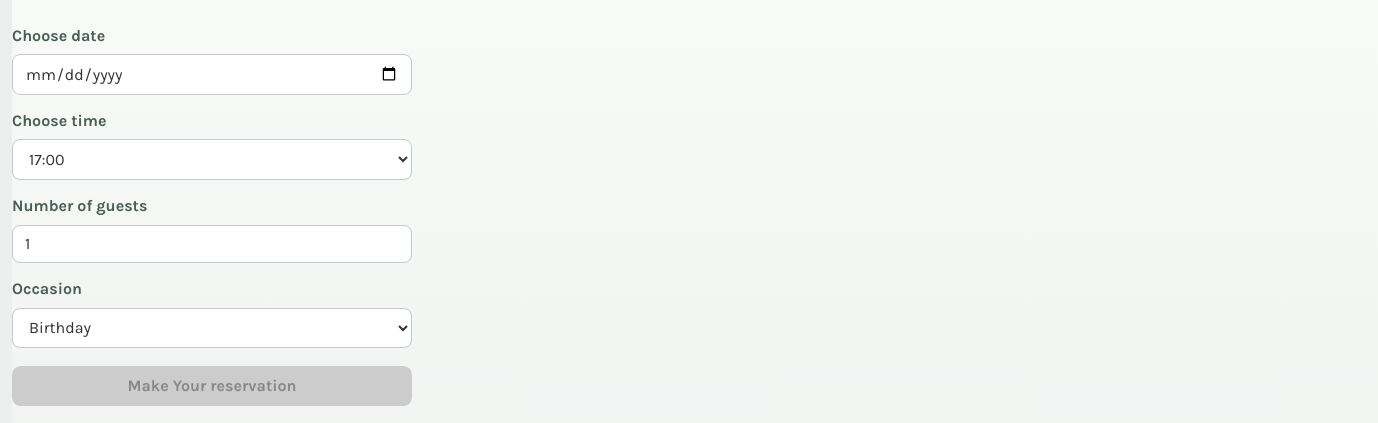
submit button is enabled when date is valid
This screenshot has width=1378, height=423.
Type "2099-12-31" into the date field labelled "Choose date" at (212, 74), box x1=12 y1=54 x2=412 y2=95
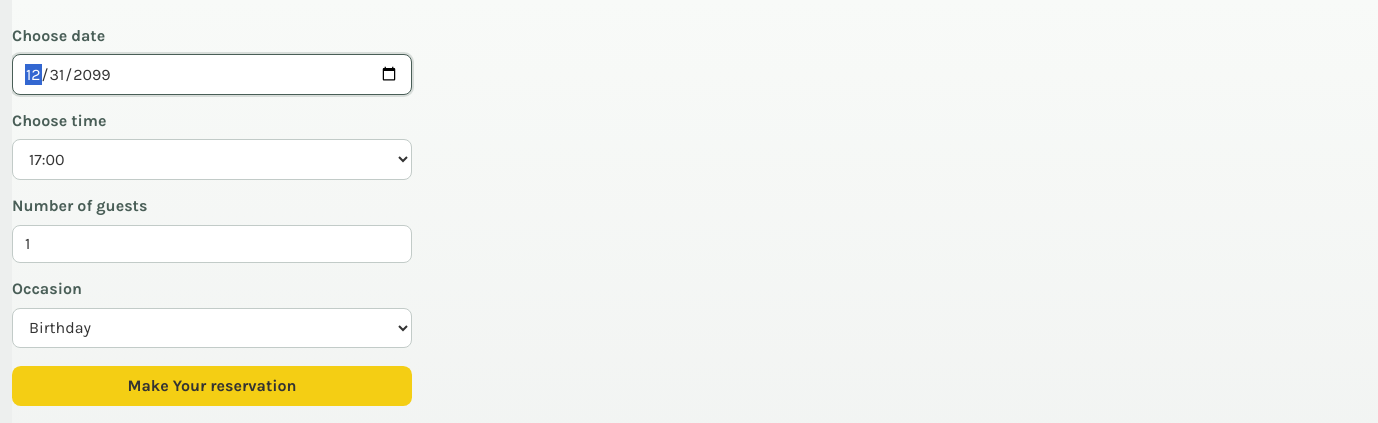
Now the button showing "Make Your reservation" is enabled, box x1=12 y1=366 x2=412 y2=406
